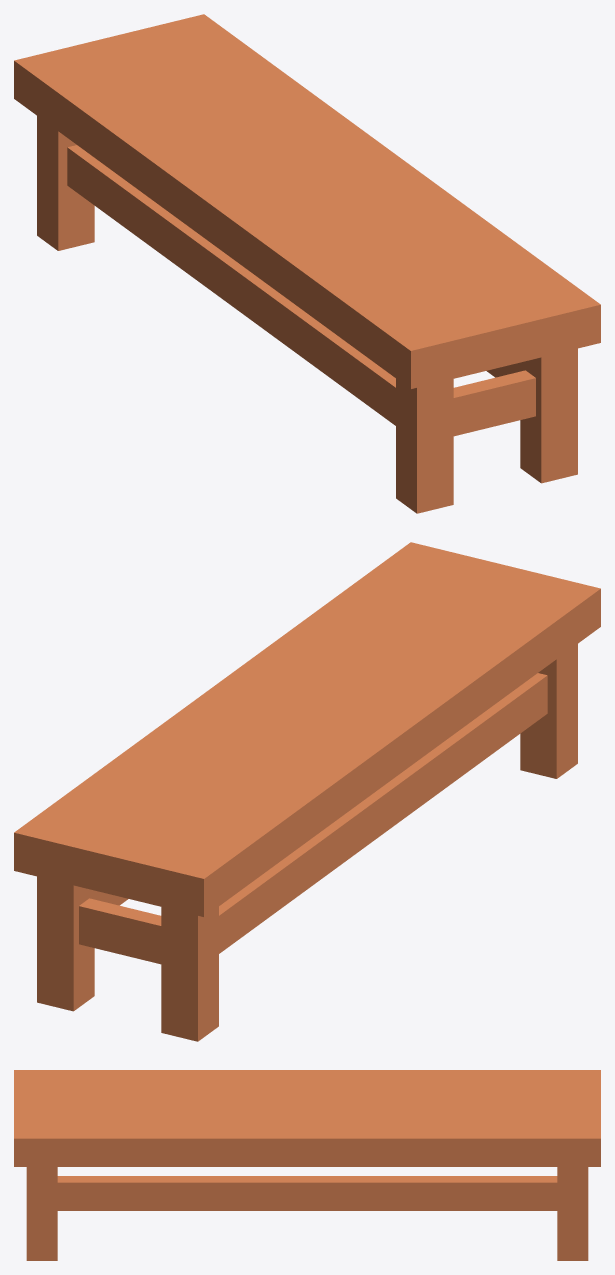
Rendered from d_kenney_banc_etal.glb.
3 renders of one model, top to bottom at view 1: azimuth 30°, elevation 25°; view 2: azimuth 150°, elevation 25°; view 3: azimuth 270°, elevation 25°, orthographic. The views are drawn at different scales.
Parts seen in each view (by area): view 1: d_kenney_banc_etal; view 2: d_kenney_banc_etal; view 3: d_kenney_banc_etal.
Part boxes in pixels (x1,y1,x2,y2): d_kenney_banc_etal: [14, 14, 600, 513]; d_kenney_banc_etal: [14, 542, 600, 1041]; d_kenney_banc_etal: [14, 1070, 600, 1260].
Size of the model in its own units: 0.2601 by 0.2255 by 0.94.
1 material, 1 textured.
